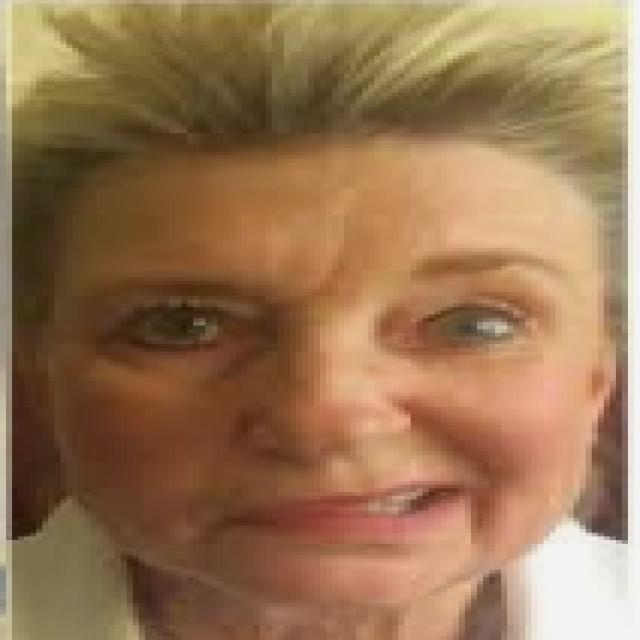stroke_face: (24, 22, 604, 640)
